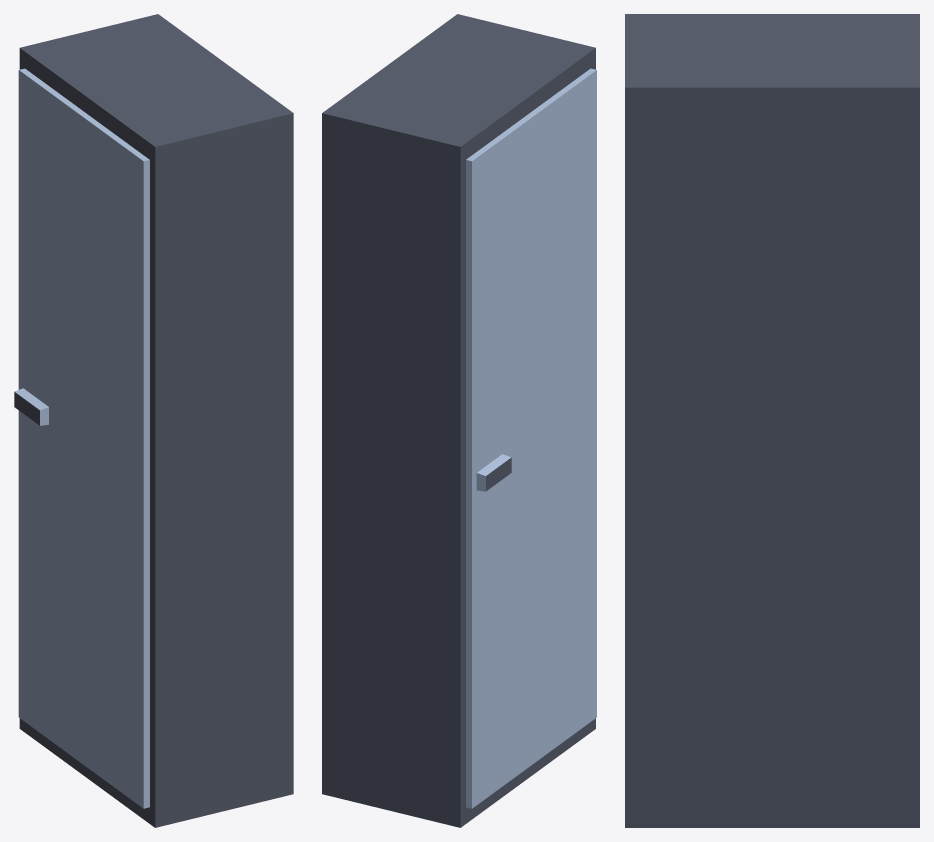
File: placard_Bleu.fbx
3 renders of one model, left to right at view 1: azimuth 30°, elevation 25°; view 2: azimuth 150°, elevation 25°; view 3: azimuth 270°, elevation 25°, orthographic. The views are drawn at different scales.
Parts seen in each view (by area): view 1: pCube6, pCube5; view 2: pCube6, pCube5; view 3: pCube6.
Boxes of the visible parts, x1,y1,x2,y2 form: pCube6: (19, 14, 293, 827); pCube5: (14, 68, 149, 808); pCube6: (322, 14, 595, 827); pCube5: (466, 68, 596, 808); pCube6: (625, 14, 919, 827).
Size of the model in its own units: 253 by 1069 by 386.
